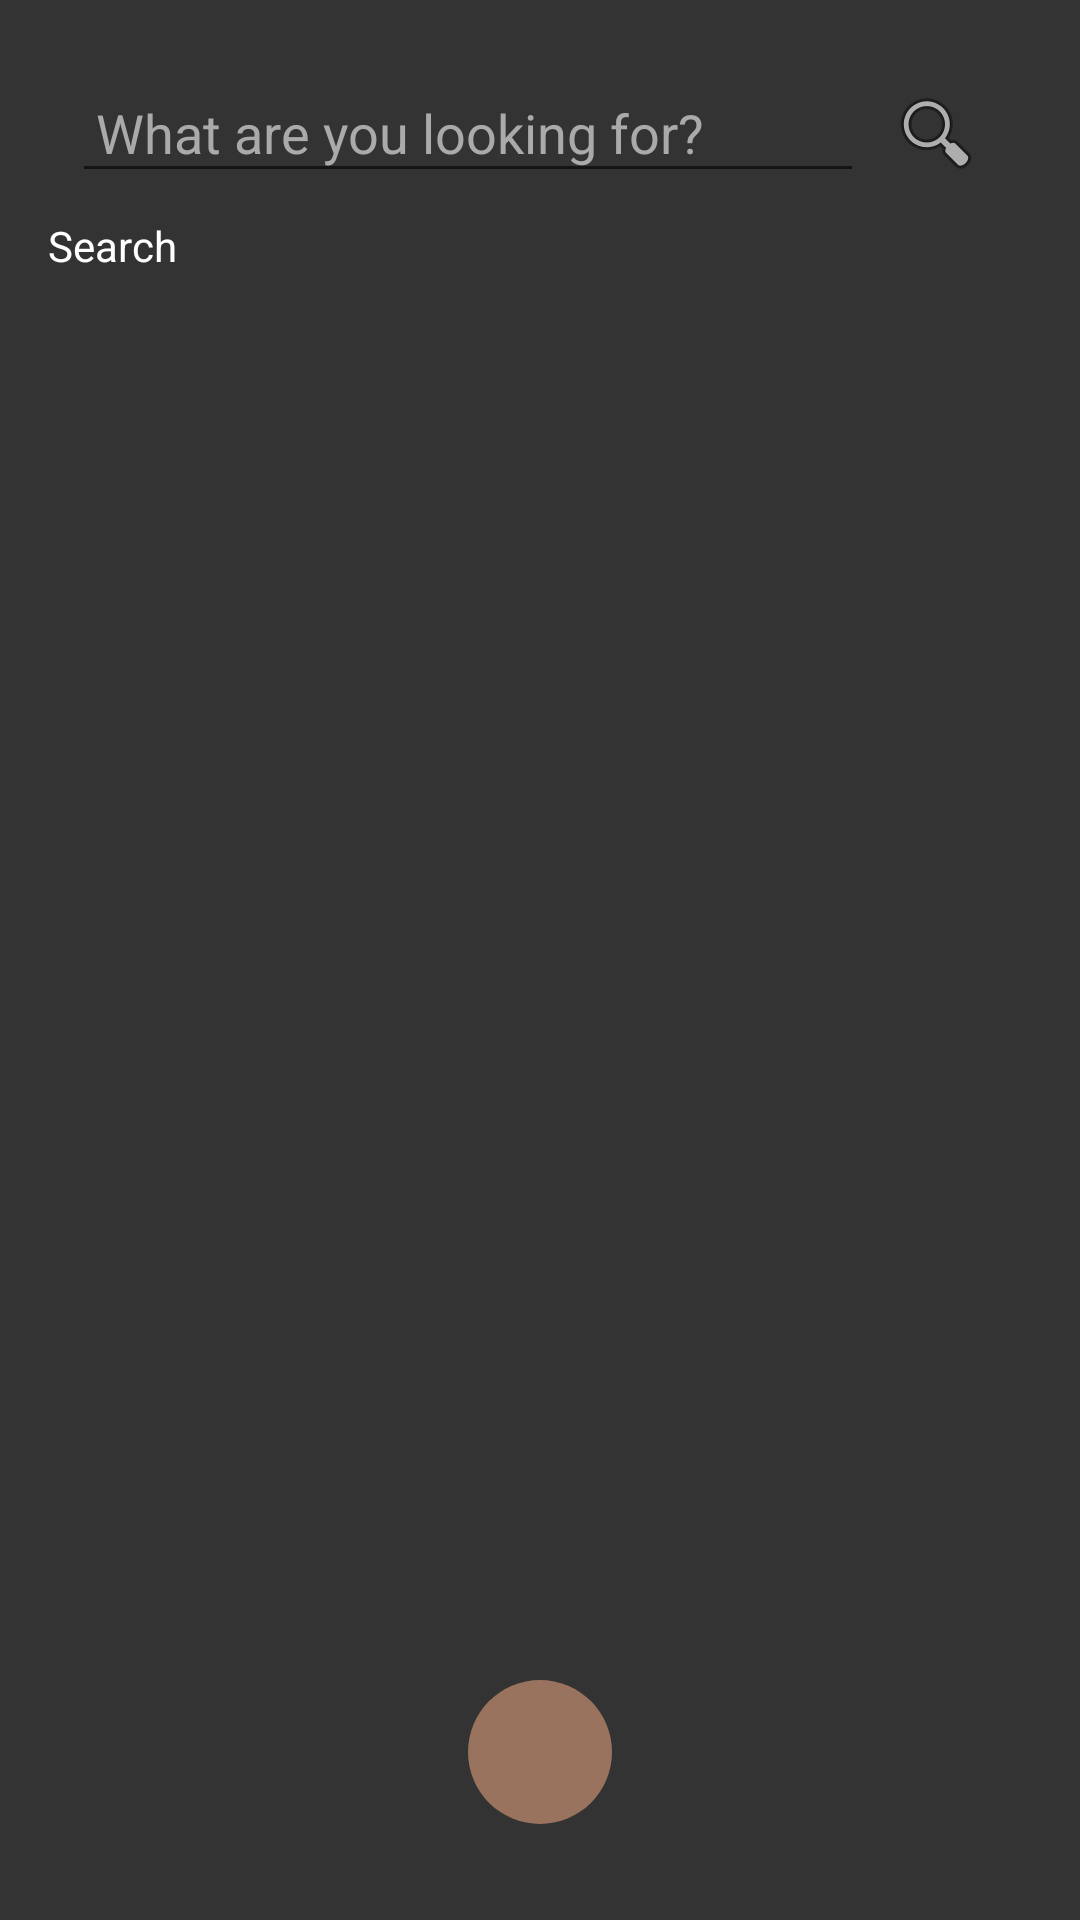

Named icons in this screenshot (1080*1920) and their bounding boxes, (x1, y1, x2, y2):
Search Button: (903, 100, 969, 167)
